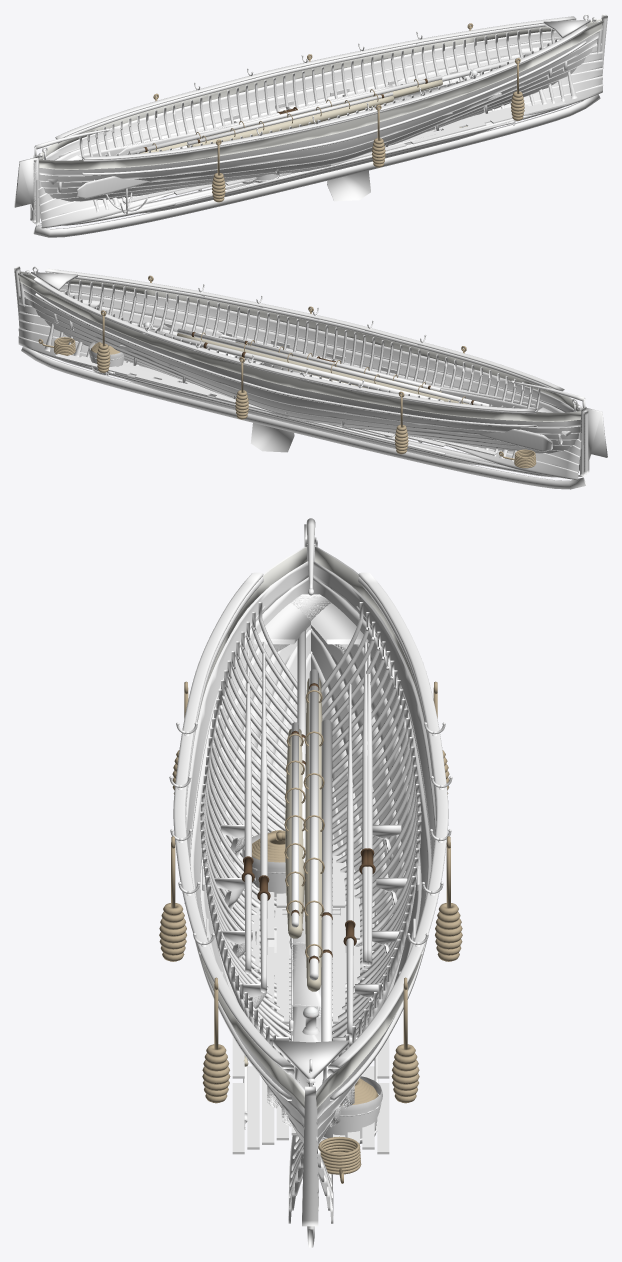
File: whaler_27ft.glb
3 renders of one model, top to bottom at view 1: azimuth 30°, elevation 25°; view 2: azimuth 150°, elevation 25°; view 3: azimuth 270°, elevation 25°, orthographic. The views are drawn at different scales.
Parts seen in each view (by area): view 1: Planking_Clinker, Gunwale_Set, Keel, Frames, Rig_Stowed, Bottom_Boards, Keelson, Fenders, Rudder, Centreboard, BoatHooks, Oar_S4 (+9 smaller); view 2: Planking_Clinker, Gunwale_Set, Keel, Frames, Rig_Stowed, Bottom_Boards, Keelson, Fenders, Rudder, Centreboard, Oar_P5, BoatHooks (+10 smaller); view 3: Planking_Clinker, Frames, Gunwale_Set, Rig_Stowed, Bottom_Boards, Fenders, Thwart_Knees, Stern_Sheets, Oar_P1, Oar_S2, Oar_S4, Thwarts (+8 smaller).
Part boxes in pixels (x1=…): Planking_Clinker: x1=38, y1=19, x2=603, y2=228; Gunwale_Set: x1=55, y1=16, x2=587, y2=175; Keel: x1=33, y1=94, x2=600, y2=237; Frames: x1=79, y1=28, x2=577, y2=211; Rig_Stowed: x1=128, y1=56, x2=525, y2=154; Bottom_Boards: x1=122, y1=101, x2=566, y2=203; Keelson: x1=117, y1=122, x2=495, y2=213; Fenders: x1=153, y1=23, x2=524, y2=202; Rudder: x1=14, y1=128, x2=109, y2=226; Centreboard: x1=327, y1=170, x2=370, y2=201; BoatHooks: x1=175, y1=119, x2=522, y2=205; Oar_S4: x1=77, y1=176, x2=151, y2=198; Planking_Clinker: x1=18, y1=271, x2=581, y2=480; Gunwale_Set: x1=34, y1=268, x2=564, y2=427; Keel: x1=21, y1=346, x2=586, y2=489; Frames: x1=44, y1=280, x2=540, y2=461; Rig_Stowed: x1=140, y1=326, x2=489, y2=406; Bottom_Boards: x1=55, y1=353, x2=497, y2=455; Keelson: x1=124, y1=374, x2=502, y2=465; Fenders: x1=96, y1=275, x2=466, y2=454; Rudder: x1=510, y1=380, x2=607, y2=476; Centreboard: x1=250, y1=423, x2=294, y2=452; Oar_P5: x1=479, y1=429, x2=551, y2=451; BoatHooks: x1=106, y1=371, x2=445, y2=455; Planking_Clinker: x1=186, y1=546, x2=435, y2=1223; Frames: x1=200, y1=602, x2=421, y2=1197; Gunwale_Set: x1=173, y1=572, x2=448, y2=1100; Rig_Stowed: x1=284, y1=630, x2=332, y2=1065; Bottom_Boards: x1=232, y1=835, x2=389, y2=1154; Fenders: x1=159, y1=681, x2=462, y2=1103; Thwart_Knees: x1=214, y1=825, x2=407, y2=1053; Stern_Sheets: x1=253, y1=594, x2=368, y2=644; Oar_P1: x1=343, y1=684, x2=356, y2=1037; Oar_S2: x1=257, y1=642, x2=270, y2=992; Oar_S4: x1=241, y1=650, x2=254, y2=974; Thwarts: x1=291, y1=890, x2=321, y2=1042.
Size of the model in its own units: 8.7 by 1.87 by 1.94.
